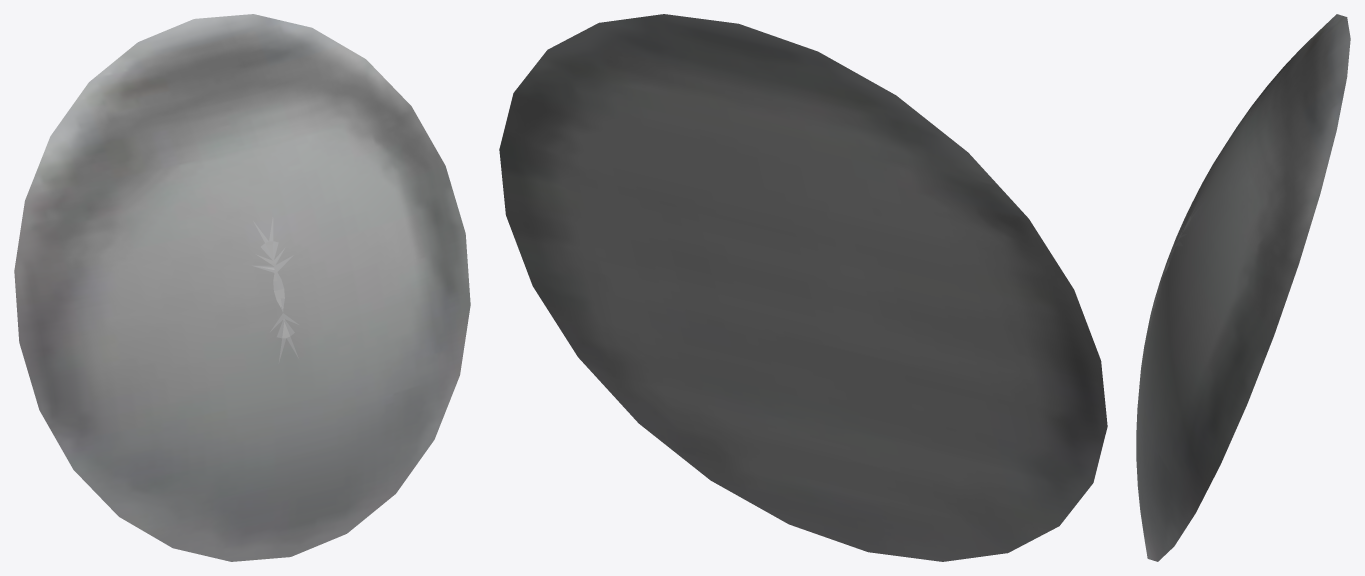
File: link_9__button-10.glb
3 views of the same model, side by side, from view 1: azimuth 30°, elevation 25°; view 2: azimuth 150°, elevation 25°; view 3: azimuth 270°, elevation 25° (orthographic). The views are drawn at different scales.
Visible parts, largest first — view 1: geometry_0; view 2: geometry_0; view 3: geometry_0.
Part boxes in pixels (x1,y1,x2,y2): geometry_0: (14,14,470,561); geometry_0: (499,14,1107,561); geometry_0: (1136,14,1350,561).
Size of the model in its own units: 0.0285 by 0.0285 by 0.0111.
1 material, 1 textured.
